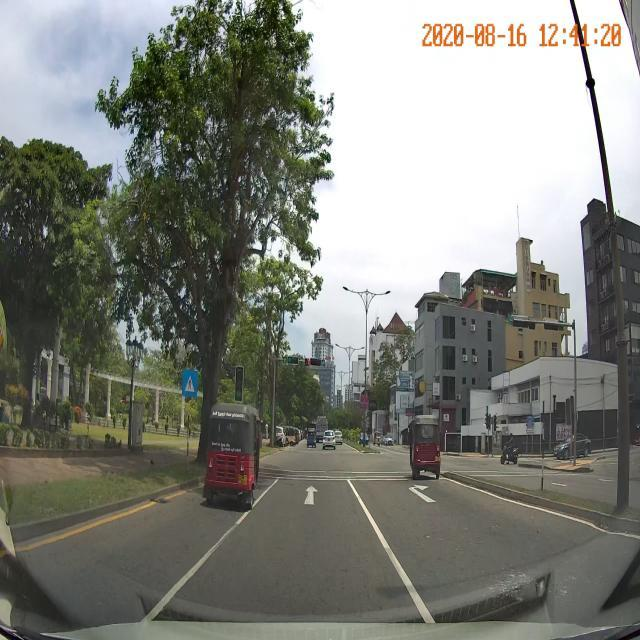forward: (254, 480, 367, 512)
right: (353, 479, 499, 513)
